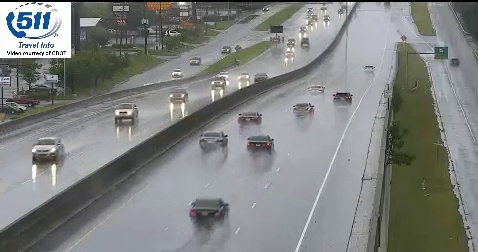car: (190, 197, 229, 223), (245, 135, 273, 153), (200, 131, 228, 149), (238, 111, 262, 126), (293, 103, 314, 118), (333, 92, 352, 106)
